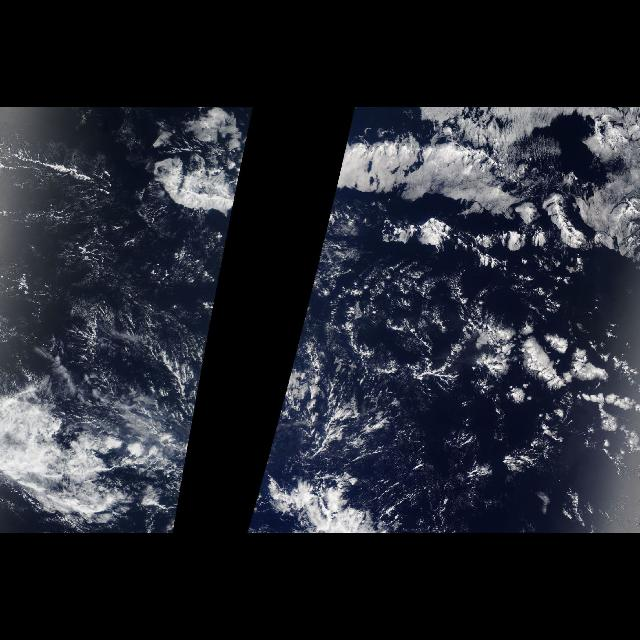Flower: (455, 292, 637, 466), (376, 188, 576, 284)
